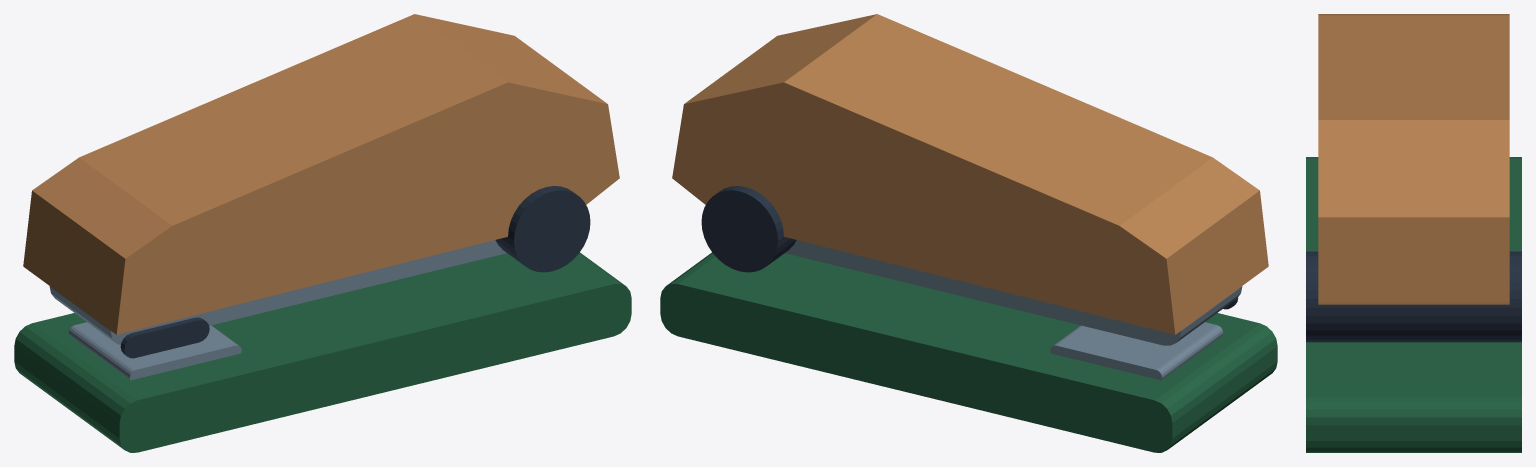
The model's file is nailer.glb.
3 renders of one model, left to right at view 1: azimuth 30°, elevation 25°; view 2: azimuth 150°, elevation 25°; view 3: azimuth 270°, elevation 25°, orthographic. The views are drawn at different scales.
Parts seen in each view (by area): view 1: lever, base, hinge, magazine, anvil, paper notch; view 2: lever, base, magazine, hinge, anvil; view 3: lever, base, hinge.
Boxes of the visible parts, bbox=[...] form: lever: bbox=[23, 14, 619, 334]; base: bbox=[14, 252, 631, 452]; hinge: bbox=[495, 186, 590, 272]; magazine: bbox=[49, 240, 506, 345]; anvil: bbox=[68, 322, 241, 380]; paper notch: bbox=[120, 317, 209, 358]; lever: bbox=[672, 14, 1268, 334]; base: bbox=[660, 252, 1277, 452]; magazine: bbox=[785, 240, 1242, 345]; hinge: bbox=[701, 186, 796, 272]; anvil: bbox=[1050, 322, 1223, 380]; lever: bbox=[1318, 14, 1509, 304]; base: bbox=[1306, 157, 1521, 452]; hinge: bbox=[1306, 251, 1521, 342].
Bounding box in the file's own units: 1.74 × 0.89 × 0.62.
